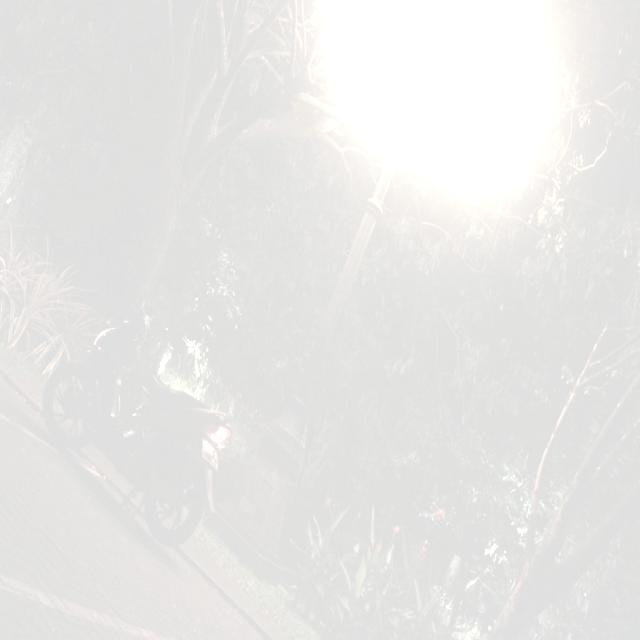Motorbike: (41, 314, 228, 548)
